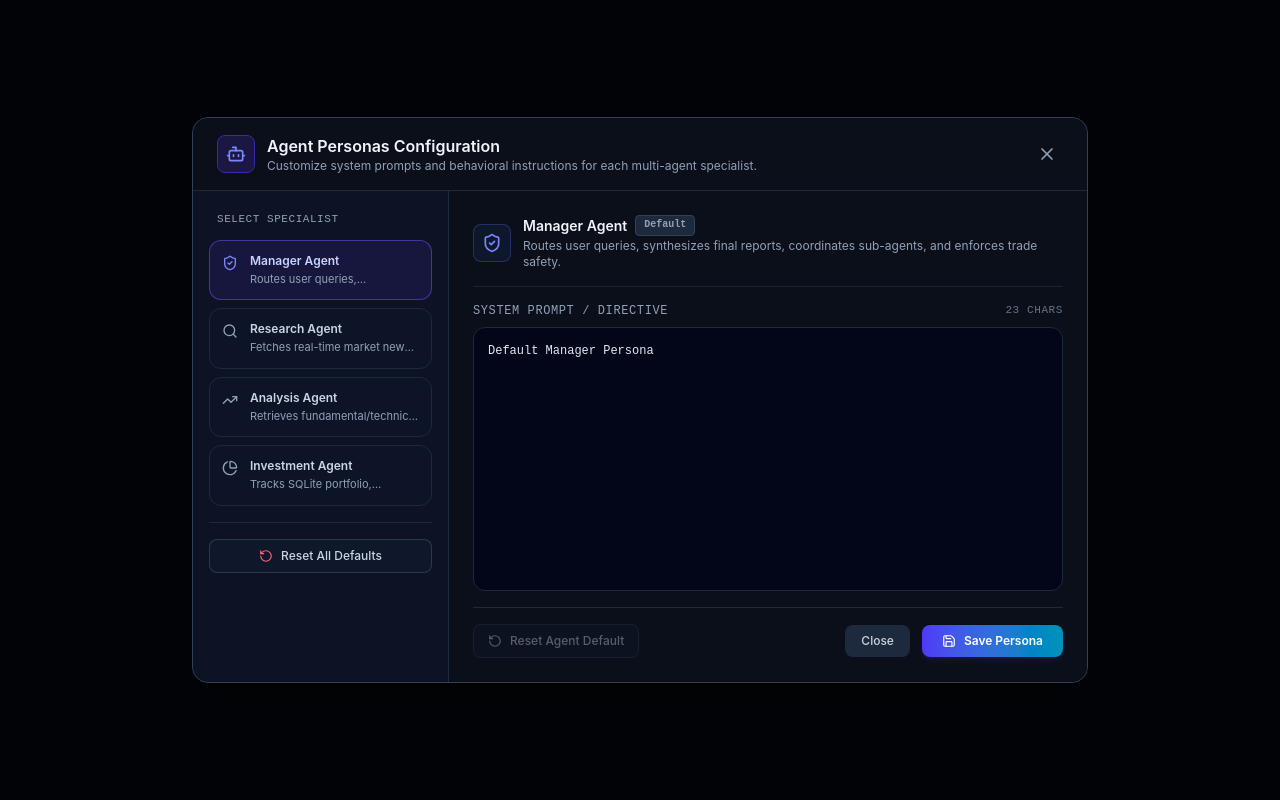
PersonaModal Component › saves updated persona
Replace the text in the text box showing "Default Manager Persona" with "Custom Manager Directive" at (768, 459), box [473,327,1063,591]
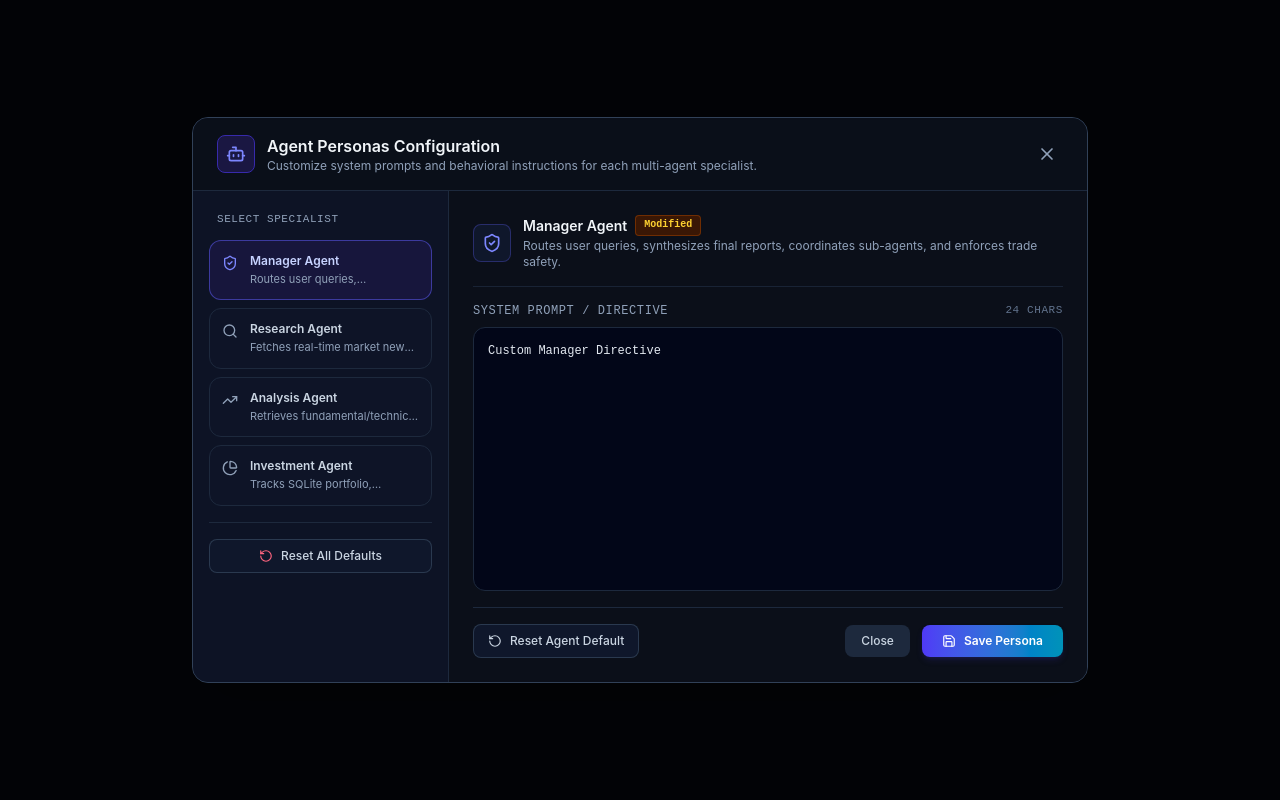
Click the button "Save Persona" at (992, 641), box [922,625,1063,657]
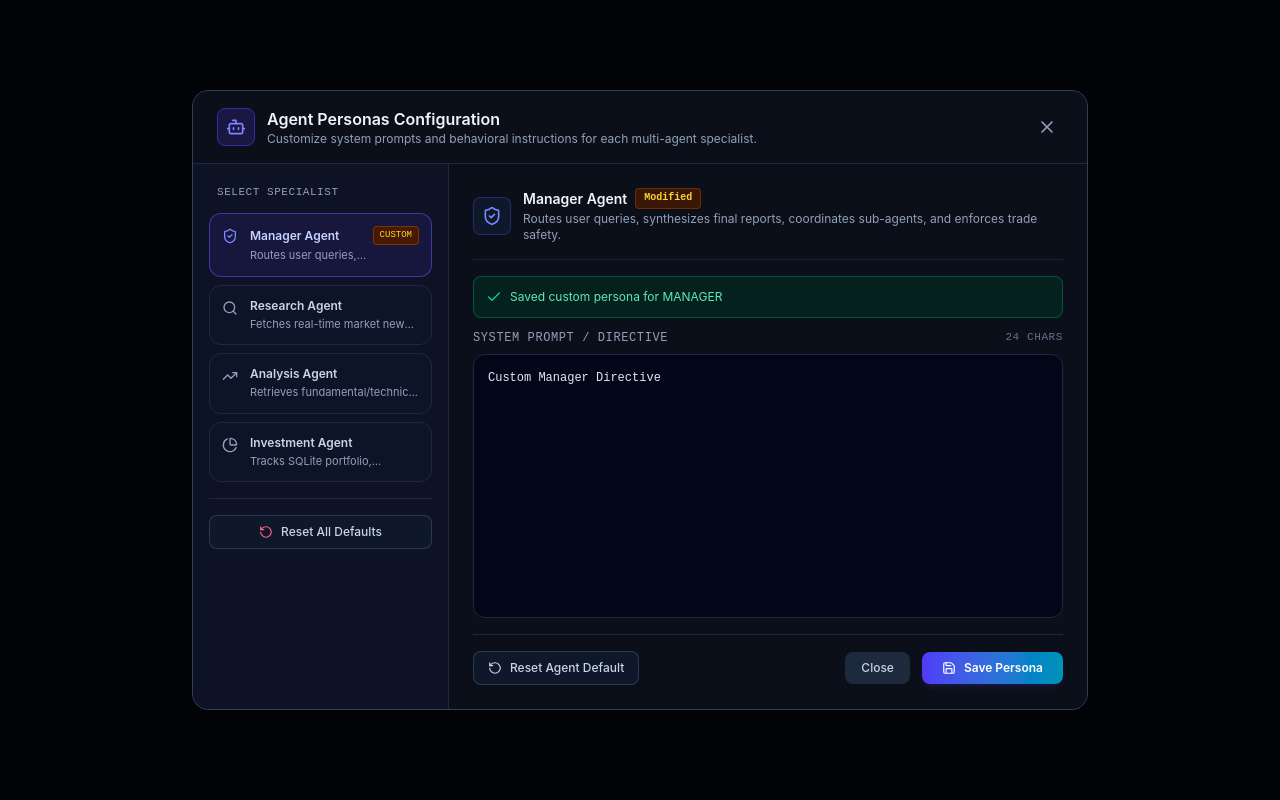
Result: the text "Saved custom persona for MANAGER" is shown at [510,289,722,305]
